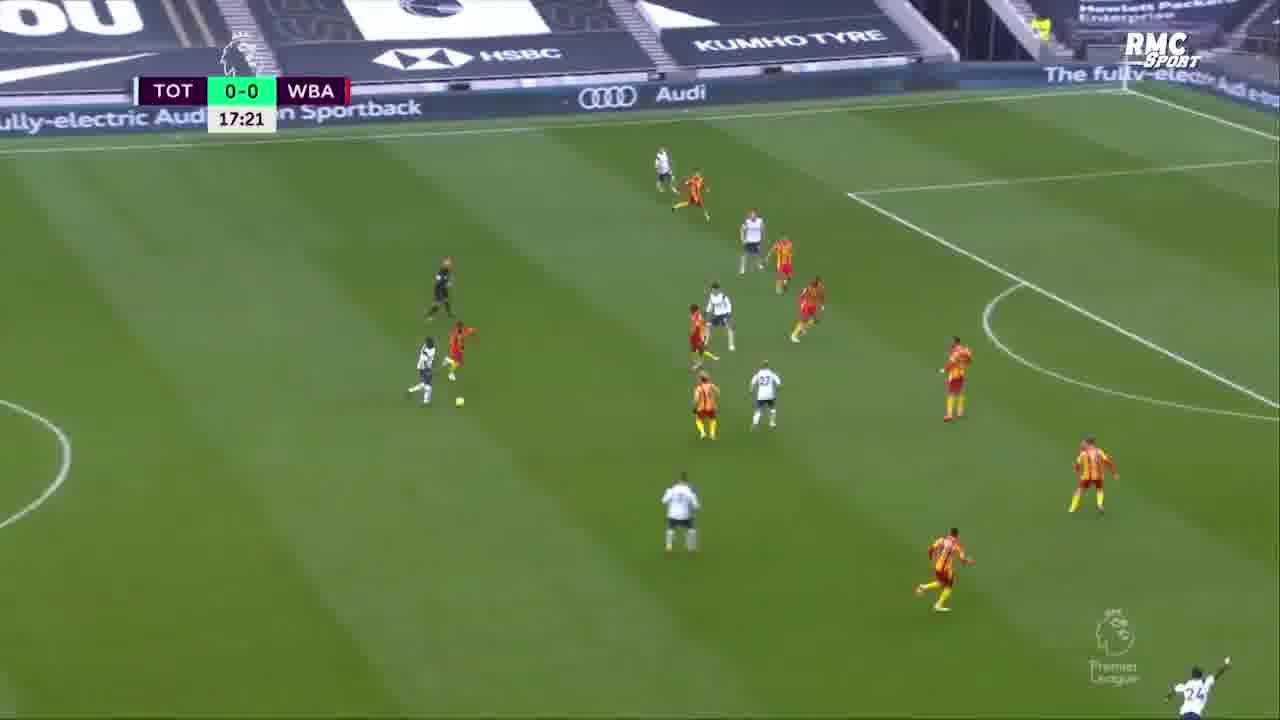futbol: (451, 391, 469, 410)
player: (910, 522, 986, 617), (1152, 649, 1242, 719), (1057, 433, 1122, 520), (652, 469, 707, 563), (935, 334, 979, 430), (784, 272, 835, 350), (743, 353, 784, 437), (666, 168, 719, 223), (689, 372, 725, 449), (732, 205, 771, 274), (706, 278, 742, 352), (440, 321, 482, 383), (409, 333, 440, 412), (768, 228, 802, 296), (686, 303, 716, 373), (648, 139, 679, 196)
referree: (420, 250, 466, 324)
